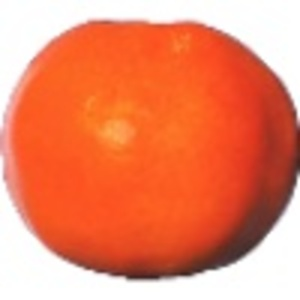tangerina: (1, 18, 300, 284)
